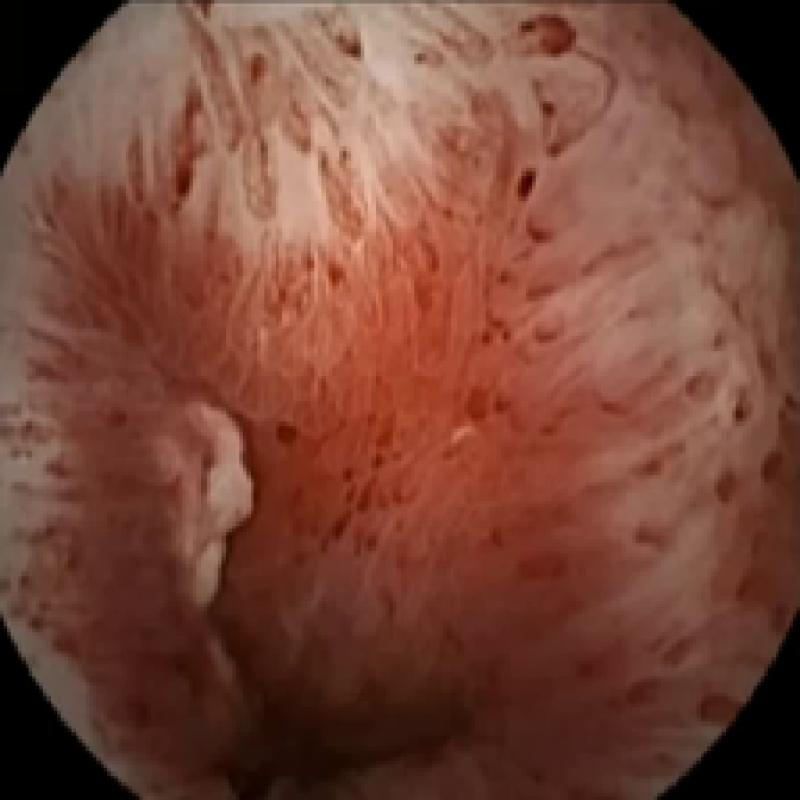bleeding: (14, 7, 757, 800)
